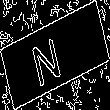N_N: (37, 24, 73, 86)
